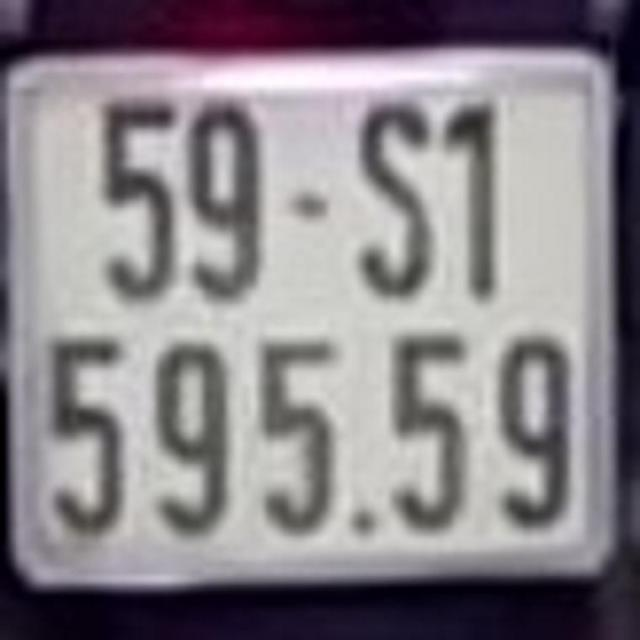1: (443, 76, 528, 302)
5: (84, 82, 179, 305), (250, 319, 345, 530), (45, 318, 134, 532), (394, 316, 473, 542)
9: (182, 87, 272, 316), (150, 324, 240, 546), (504, 315, 581, 535)
S: (352, 82, 442, 301)
